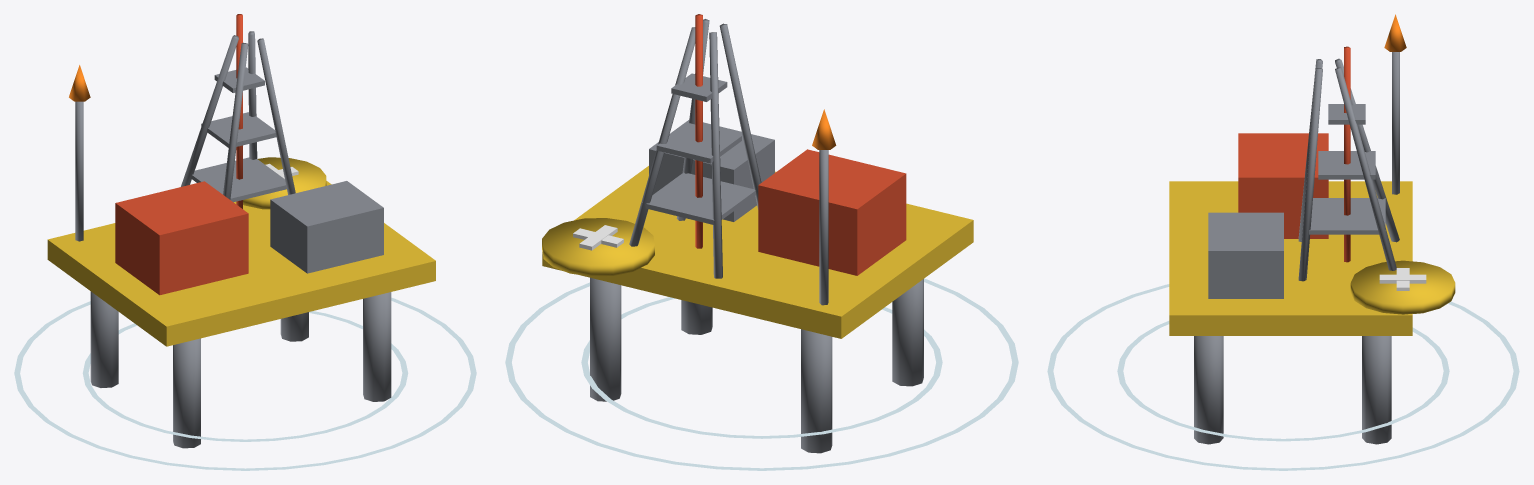
File: improvement_offshore_oil_rig.fbx
3 renders of one model, left to right at view 1: azimuth 30°, elevation 25°; view 2: azimuth 150°, elevation 25°; view 3: azimuth 270°, elevation 25°, orthographic. The views are drawn at different scales.
Parts seen in each view (by area): view 1: improvement_offshore_oil_rig_rigm_01, improvement_offshore_oil_rig_rigy_02, improvement_offshore_oil_rig_rigr_03, improvement_offshore_oil_rig_foam_ring.006_00; view 2: improvement_offshore_oil_rig_rigy_02, improvement_offshore_oil_rig_rigm_01, improvement_offshore_oil_rig_rigr_03, improvement_offshore_oil_rig_foam_ring.006_00, improvement_offshore_oil_rig_hmark_05, improvement_offshore_oil_rig_flare_04; view 3: improvement_offshore_oil_rig_rigy_02, improvement_offshore_oil_rig_rigm_01, improvement_offshore_oil_rig_rigr_03, improvement_offshore_oil_rig_foam_ring.006_00, improvement_offshore_oil_rig_hmark_05.
Part boxes in pixels (x1=…): improvement_offshore_oil_rig_rigm_01: x1=75, y1=31, x2=391, y2=448; improvement_offshore_oil_rig_rigy_02: x1=47, y1=157, x2=435, y2=346; improvement_offshore_oil_rig_rigr_03: x1=115, y1=14, x2=248, y2=295; improvement_offshore_oil_rig_foam_ring.006_00: x1=14, y1=297, x2=476, y2=470; improvement_offshore_oil_rig_rigy_02: x1=542, y1=166, x2=973, y2=338; improvement_offshore_oil_rig_rigm_01: x1=590, y1=19, x2=923, y2=453; improvement_offshore_oil_rig_rigr_03: x1=695, y1=14, x2=906, y2=275; improvement_offshore_oil_rig_foam_ring.006_00: x1=505, y1=278, x2=1018, y2=470; improvement_offshore_oil_rig_hmark_05: x1=573, y1=225, x2=623, y2=250; improvement_offshore_oil_rig_flare_04: x1=812, y1=109, x2=836, y2=149; improvement_offshore_oil_rig_rigy_02: x1=1169, y1=181, x2=1455, y2=335; improvement_offshore_oil_rig_rigm_01: x1=1194, y1=52, x2=1399, y2=444; improvement_offshore_oil_rig_rigr_03: x1=1238, y1=46, x2=1350, y2=262; improvement_offshore_oil_rig_foam_ring.006_00: x1=1047, y1=284, x2=1519, y2=470; improvement_offshore_oil_rig_hmark_05: x1=1379, y1=268, x2=1426, y2=290.
Size of the model in its own units: 126 by 105 by 126.
